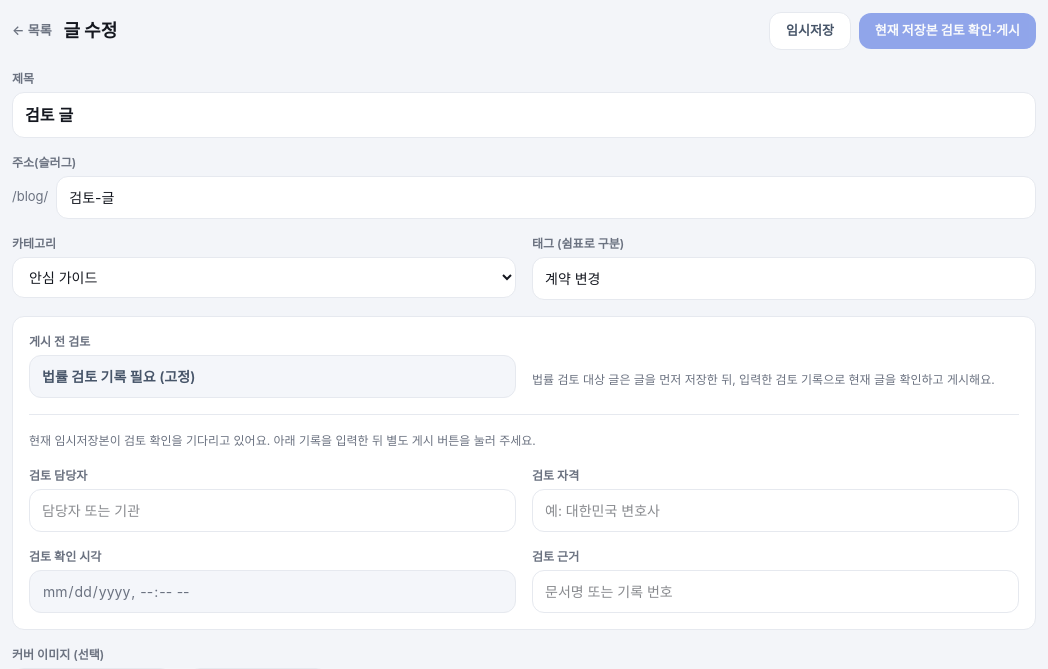
Test: 검토 응답이 유실되면 상세를 다시 읽어 실제 게시 상태를 표시한다
Type "새 검토자" into the field labelled "검토 담당자".
click(272, 510); type("새 검토자")  # box 29,488 -> 516,532
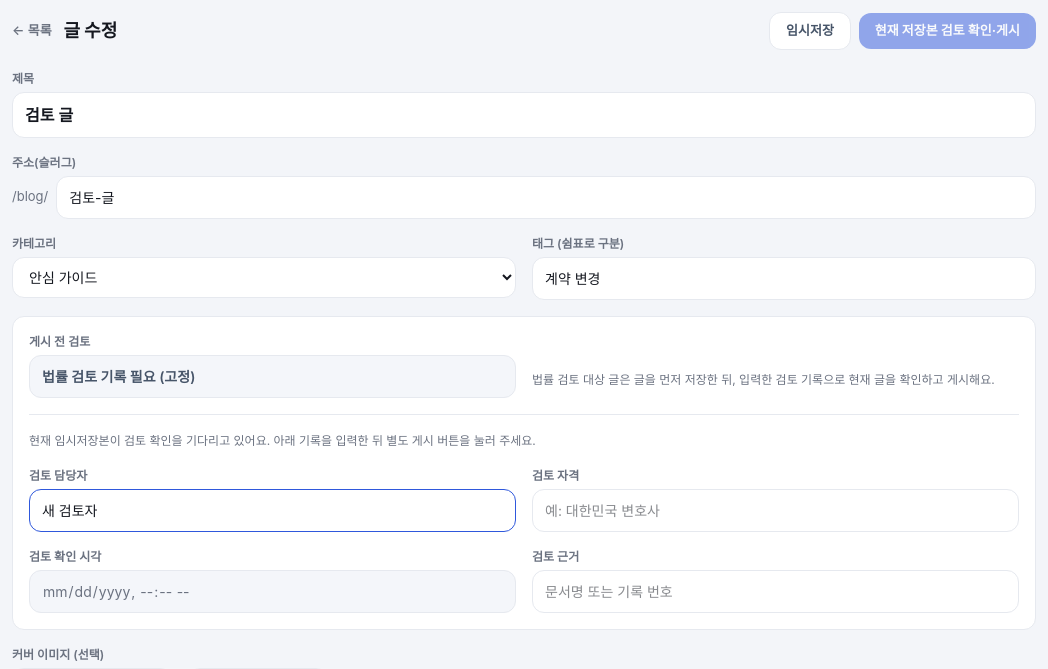
Type "대한민국 변호사" into the field labelled "검토 자격".
click(776, 510); type("대한민국 변호사")  # box 532,488 -> 1019,532
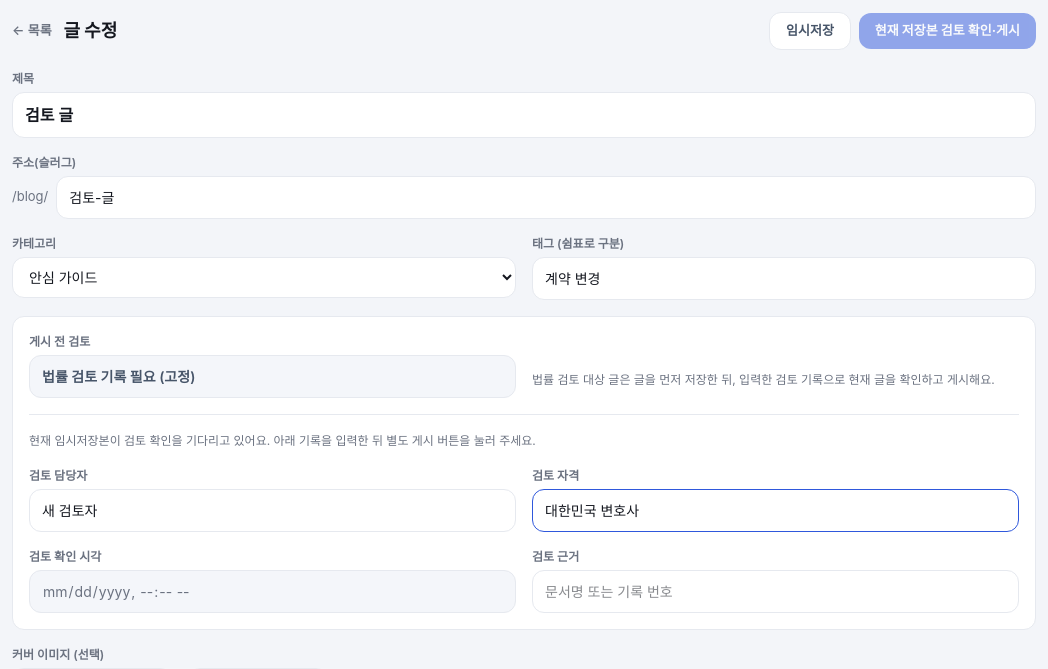
Type "새 기록" into the field labelled "검토 근거".
click(776, 591); type("새 기록")  # box 532,570 -> 1019,612
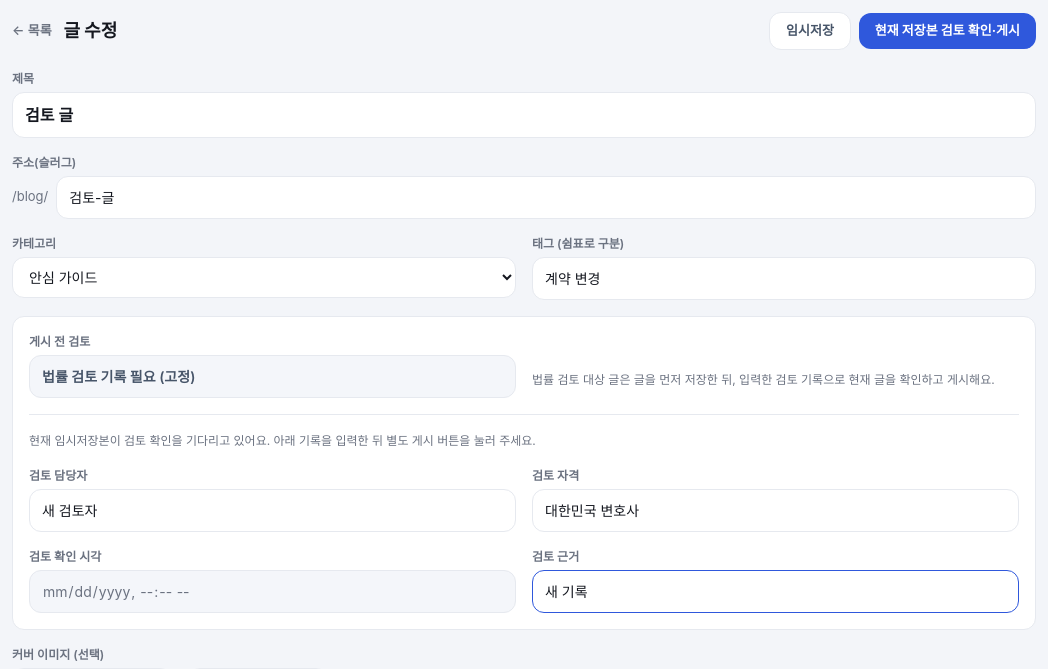
Click the button "현재 저장본 검토 확인·게시".
click(947, 31)  # box 859,13 -> 1036,48
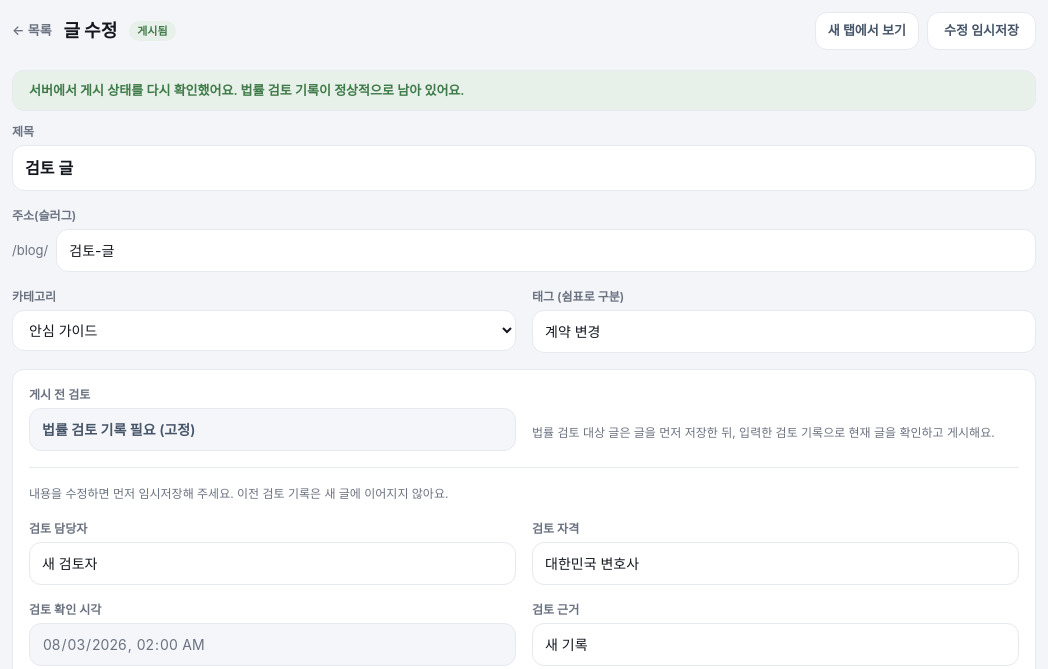
Expected: the text "서버에서 게시 상태를 다시 확인했어요. 법률 검토 기록이 정상적으로 남아 있어요." is shown, 12,70 -> 1036,111
Expected: the text "게시됨" is shown, 129,20 -> 176,41
Expected: the field labelled "검토 확인 시각" is not empty, 29,623 -> 516,666
